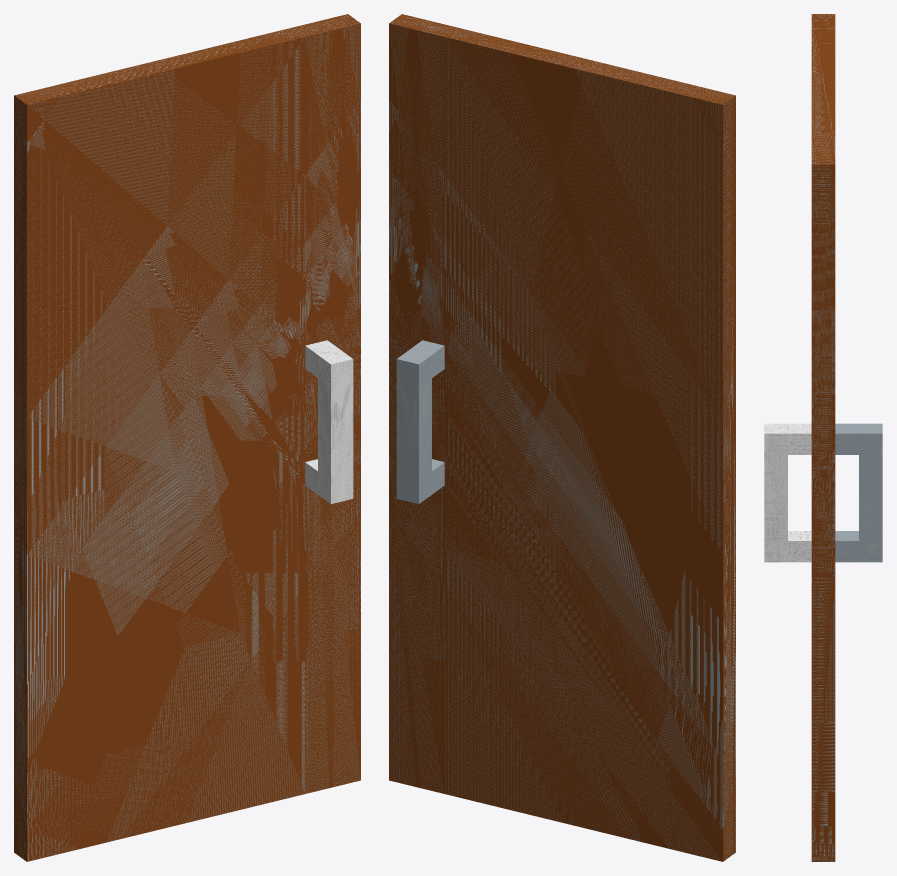
Rendered from door4.fbx.
3 views of the same model, side by side, from view 1: azimuth 30°, elevation 25°; view 2: azimuth 150°, elevation 25°; view 3: azimuth 270°, elevation 25° (orthographic). The views are drawn at different scales.
Visible parts, largest first — view 1: Mesh1_Door_1_1 Model; view 2: Mesh1_Door_1_1 Model; view 3: Mesh1_Door_1_1 Model.
Boxes of the visible parts, x1,y1,x2,y2 form: Mesh1_Door_1_1 Model: (14, 14, 360, 861); Mesh1_Door_1_1 Model: (389, 14, 735, 861); Mesh1_Door_1_1 Model: (764, 14, 882, 861).
Size of the model in its own units: 0.3 by 0.65 by 0.1.
